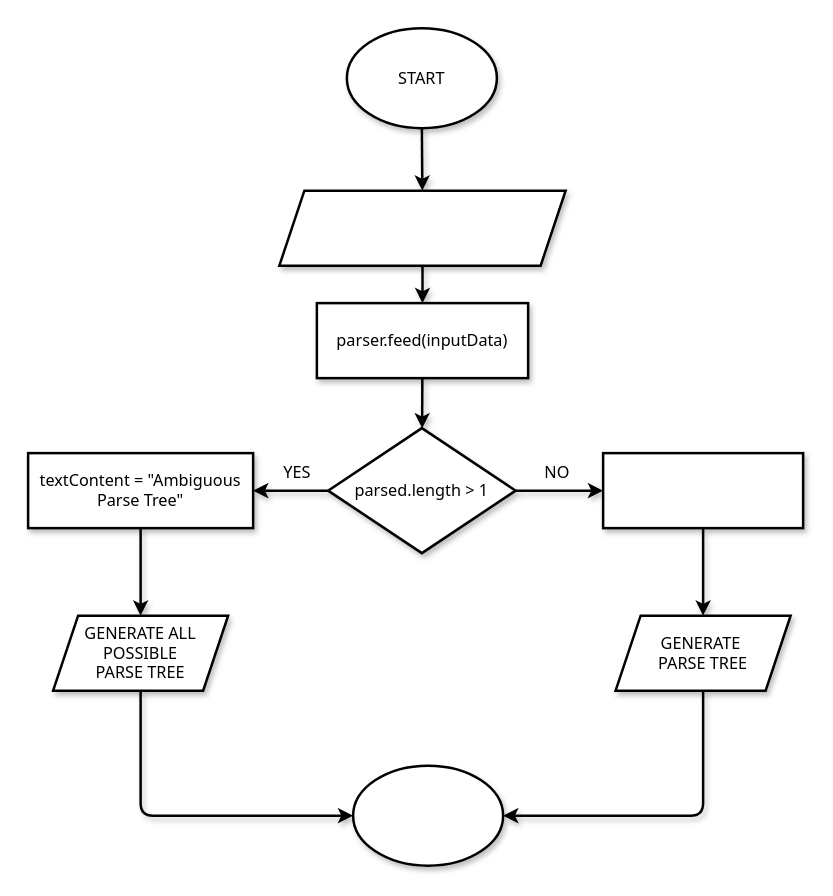
This 833x896 diagram has some shape labels left out. The centre of each missing label's shape, as x and y in pixels:
const inputData const parser = new nearley.Parser: [423,229]
END: [428,817]
textContent = "Not Ambiguous ": [703,492]
